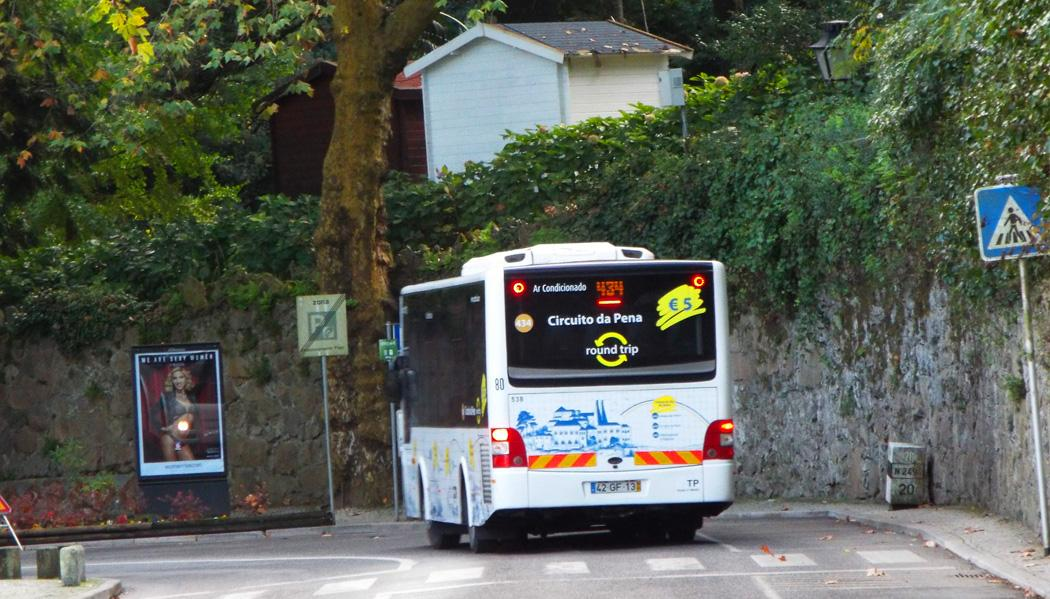vehicle: (383, 242, 735, 553)
